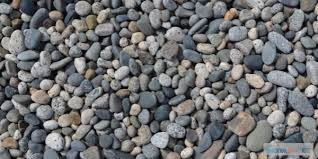rock: (1, 1, 316, 157)
